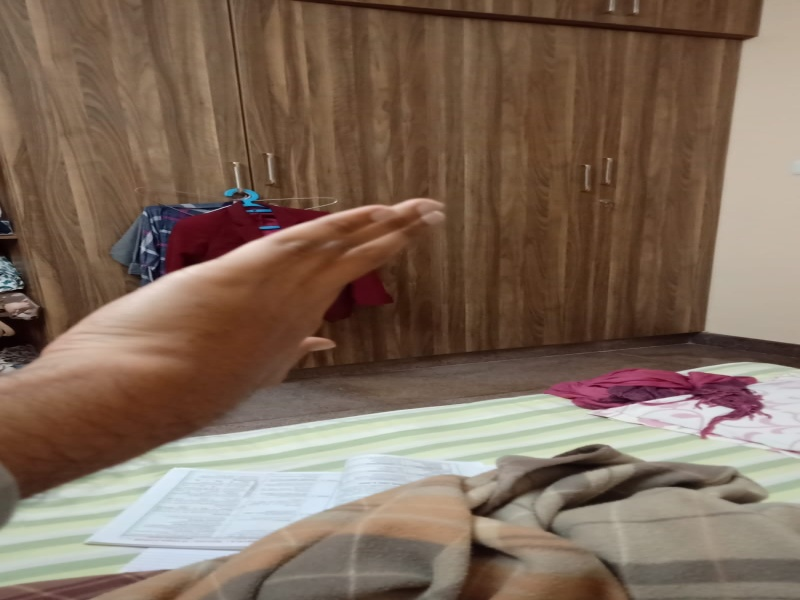Hand: (34, 189, 455, 481)
